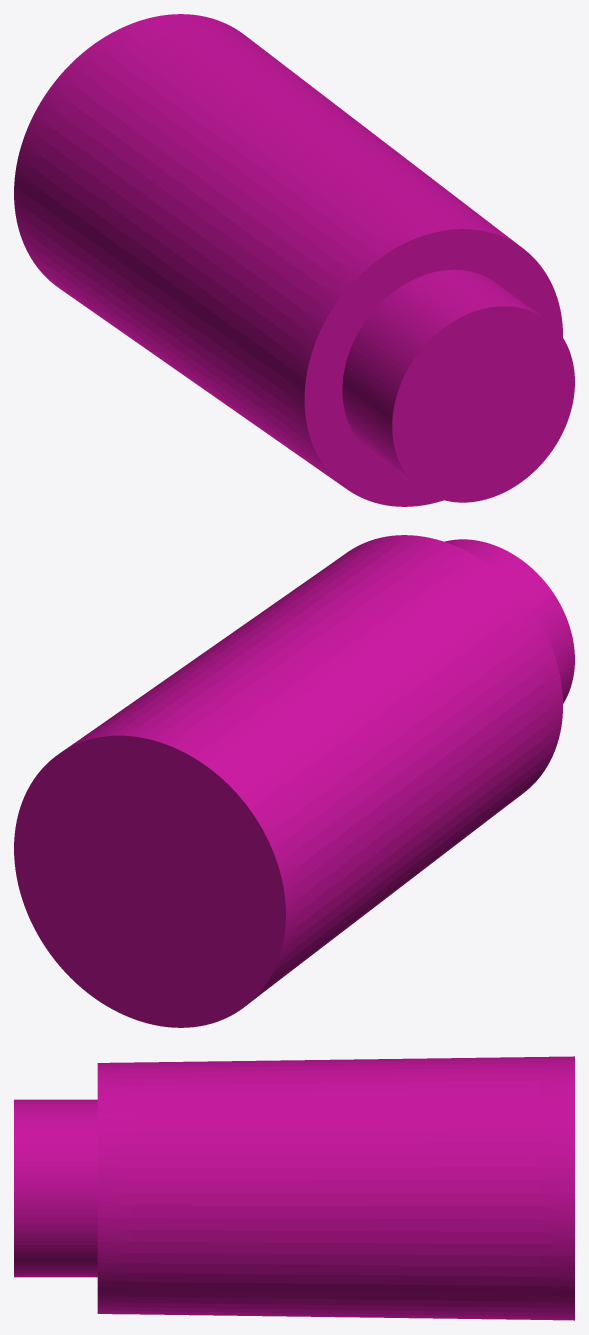
3 renders of one model, top to bottom at view 1: azimuth 30°, elevation 25°; view 2: azimuth 150°, elevation 25°; view 3: azimuth 270°, elevation 25°, orthographic. The views are drawn at different scales.
Parts seen in each view (by area): view 1: node; view 2: node; view 3: node.
Part boxes in pixels (x1,y1,x2,y2): node: (14, 14, 574, 506); node: (14, 535, 574, 1027); node: (14, 1056, 574, 1320).
Size of the model in its own units: 0.083 by 0.083 by 0.1763.
